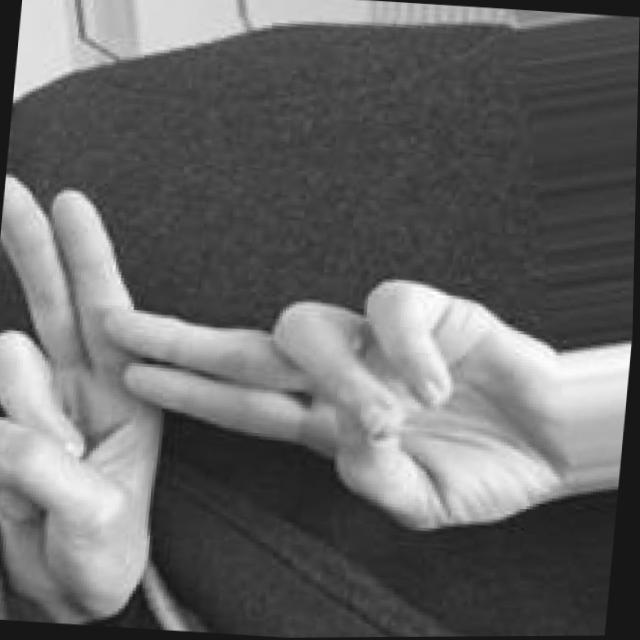K: (0, 157, 585, 640)
